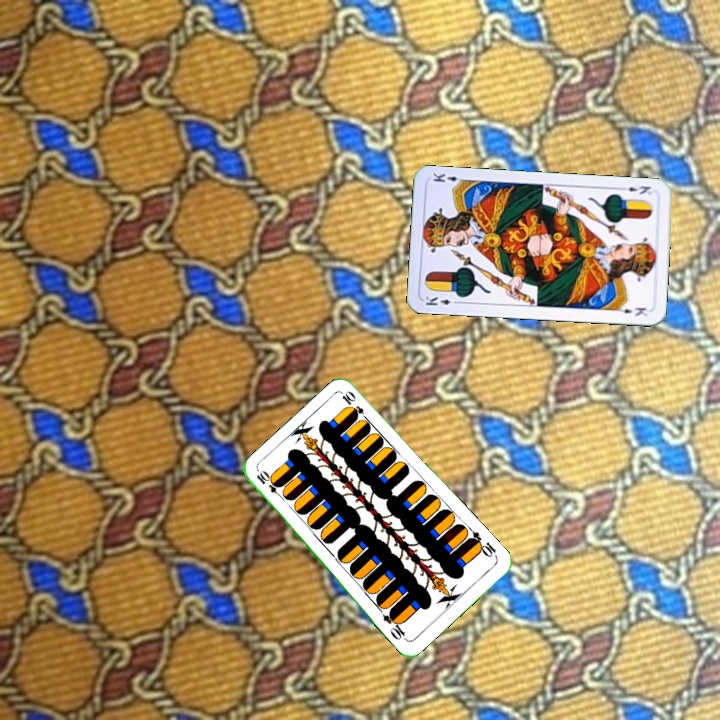E10: (464, 527, 500, 560), (252, 468, 286, 501)
EK: (421, 292, 462, 308), (616, 182, 654, 197)
